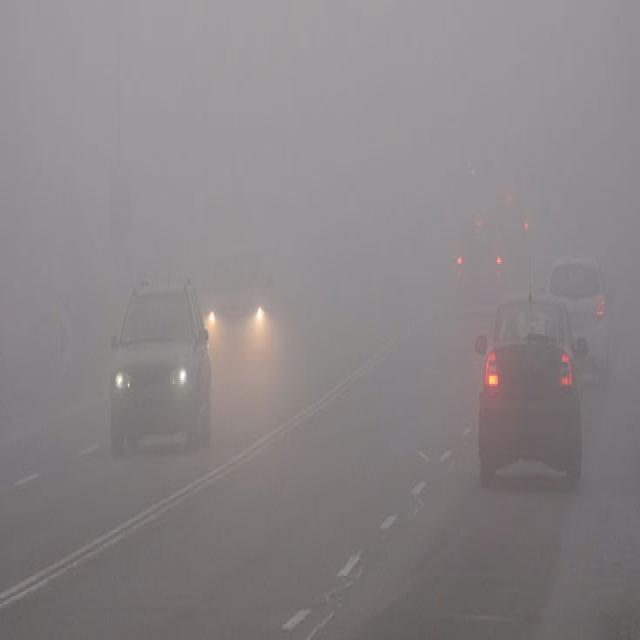car: (476, 288, 584, 486), (105, 282, 209, 454), (542, 254, 608, 384), (201, 252, 272, 352), (452, 220, 508, 292), (491, 182, 536, 262)
